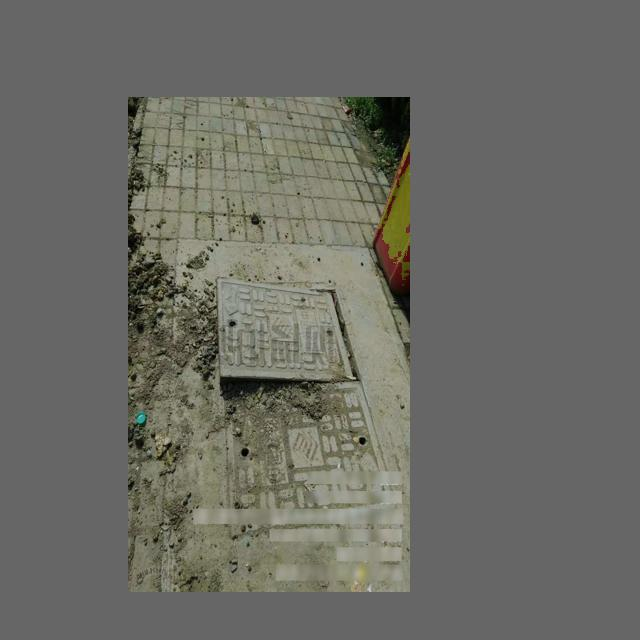uncovered: (216, 277, 398, 544)
